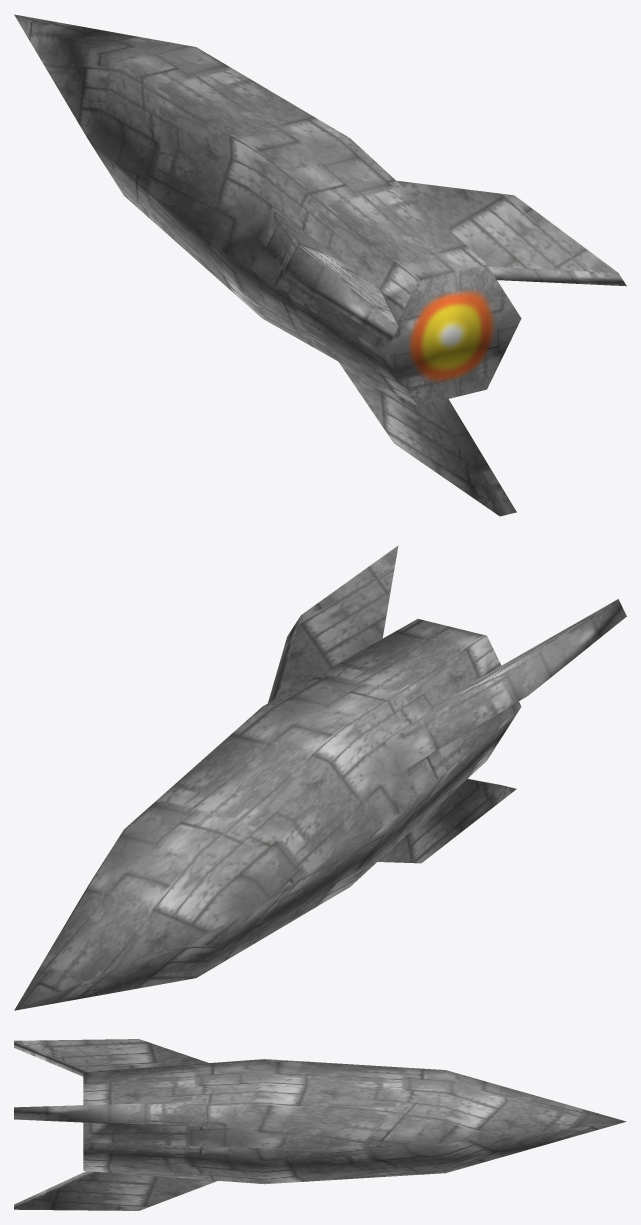
The model's file is rocket_thin.obj.
The picture shows the model from 3 angles, top to bottom: view 1: azimuth 30°, elevation 25°; view 2: azimuth 150°, elevation 25°; view 3: azimuth 270°, elevation 25°; orthographic projection. The views are drawn at different scales.
Visible parts, largest first — view 1: rocket_thin; view 2: rocket_thin; view 3: rocket_thin.
Part boxes in pixels (<box>): rocket_thin: <box>14,14,626,516</box>; rocket_thin: <box>14,545,626,1010</box>; rocket_thin: <box>14,1039,626,1210</box>.
Bounding box in the file's own units: 0.5717 × 0.4965 × 2.03.
1 material, 1 textured.
